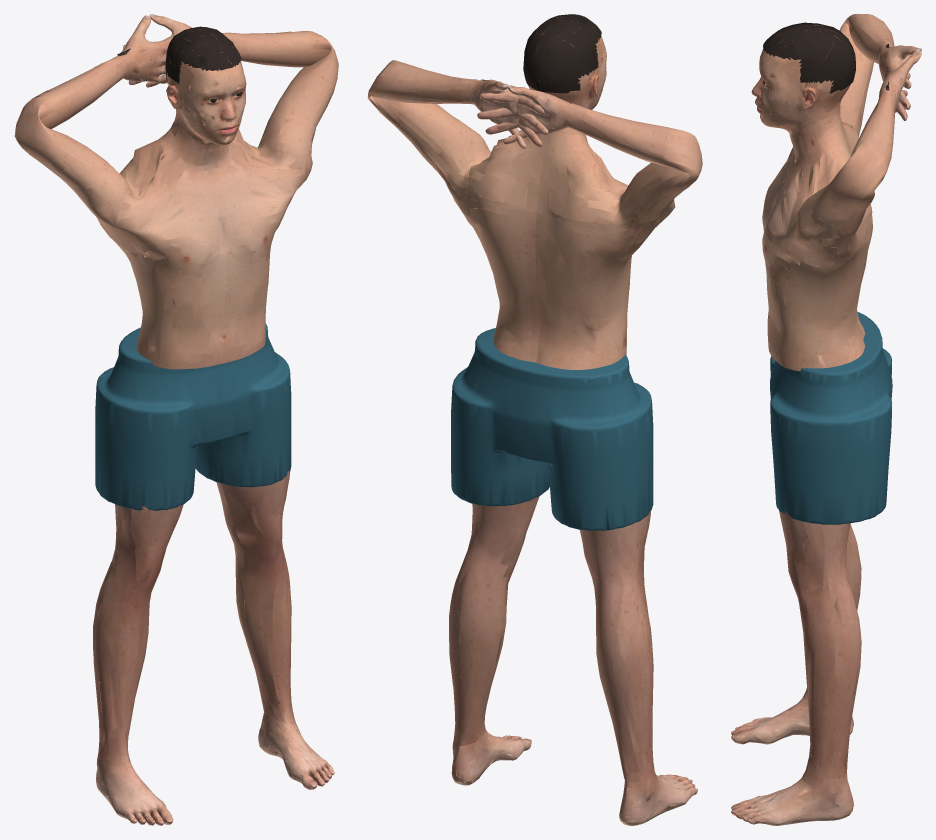
Rendered from adult-swimmer.glb.
3 renders of one model, left to right at view 1: azimuth 30°, elevation 25°; view 2: azimuth 150°, elevation 25°; view 3: azimuth 270°, elevation 25°, orthographic. The views are drawn at different scales.
Parts seen in each view (by area): view 1: torso, pelvis, shinR, thighR, shinL, thighL, head, upperR, upperL, foreR, foreL; view 2: torso, pelvis, shinR, thighR, shinL, thighL, foreR, head, foreL, upperL, upperR; view 3: torso, pelvis, shinL, thighL, head, upperL, foreL, shinR, foreR, upperR.
Boxes of the visible parts, box(x1,y1,x2,y2) form: torso: box(97, 128, 305, 365); pelvis: box(95, 313, 291, 473); shinR: box(93, 562, 173, 825); thighR: box(95, 415, 223, 593); shinL: box(235, 535, 334, 789); thighL: box(195, 403, 291, 568); head: box(117, 26, 246, 153); upperR: box(14, 120, 140, 233); upperL: box(255, 49, 338, 183); foreR: box(14, 15, 169, 135); foreL: box(123, 14, 334, 87); torso: box(448, 132, 666, 352); pelvis: box(451, 320, 653, 485); shinR: box(594, 583, 697, 825); thighR: box(518, 432, 653, 600); shinL: box(449, 551, 531, 785); thighL: box(451, 419, 549, 580); foreR: box(477, 85, 698, 176); head: box(474, 14, 606, 155); foreL: box(368, 60, 548, 148); upperL: box(367, 76, 490, 190); upperR: box(616, 143, 702, 235); torso: box(762, 121, 872, 355); pelvis: box(767, 312, 892, 487); shinL: box(731, 579, 861, 825); thighL: box(771, 433, 891, 608); head: box(751, 22, 889, 153); upperL: box(790, 165, 874, 250); foreL: box(844, 50, 921, 193); shinR: box(731, 524, 861, 744); foreR: box(844, 14, 921, 120); upperR: box(793, 21, 873, 148).
Bounding box in the file's own units: 0.7927 × 1.79 × 0.4121.
5 materials, 1 textured.
